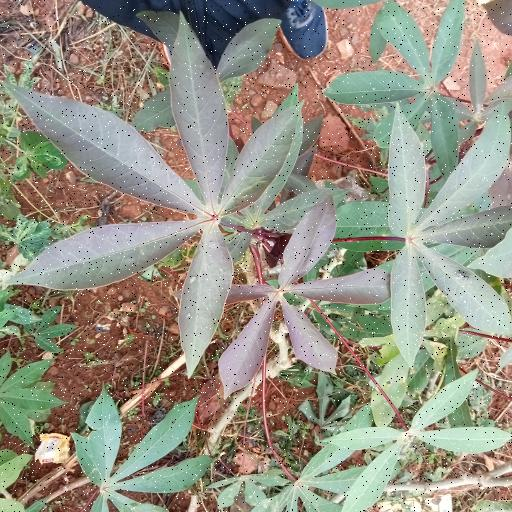Cassava_Healthy: (12, 43, 296, 364), (388, 106, 512, 384), (215, 215, 393, 399), (324, 0, 476, 177)
